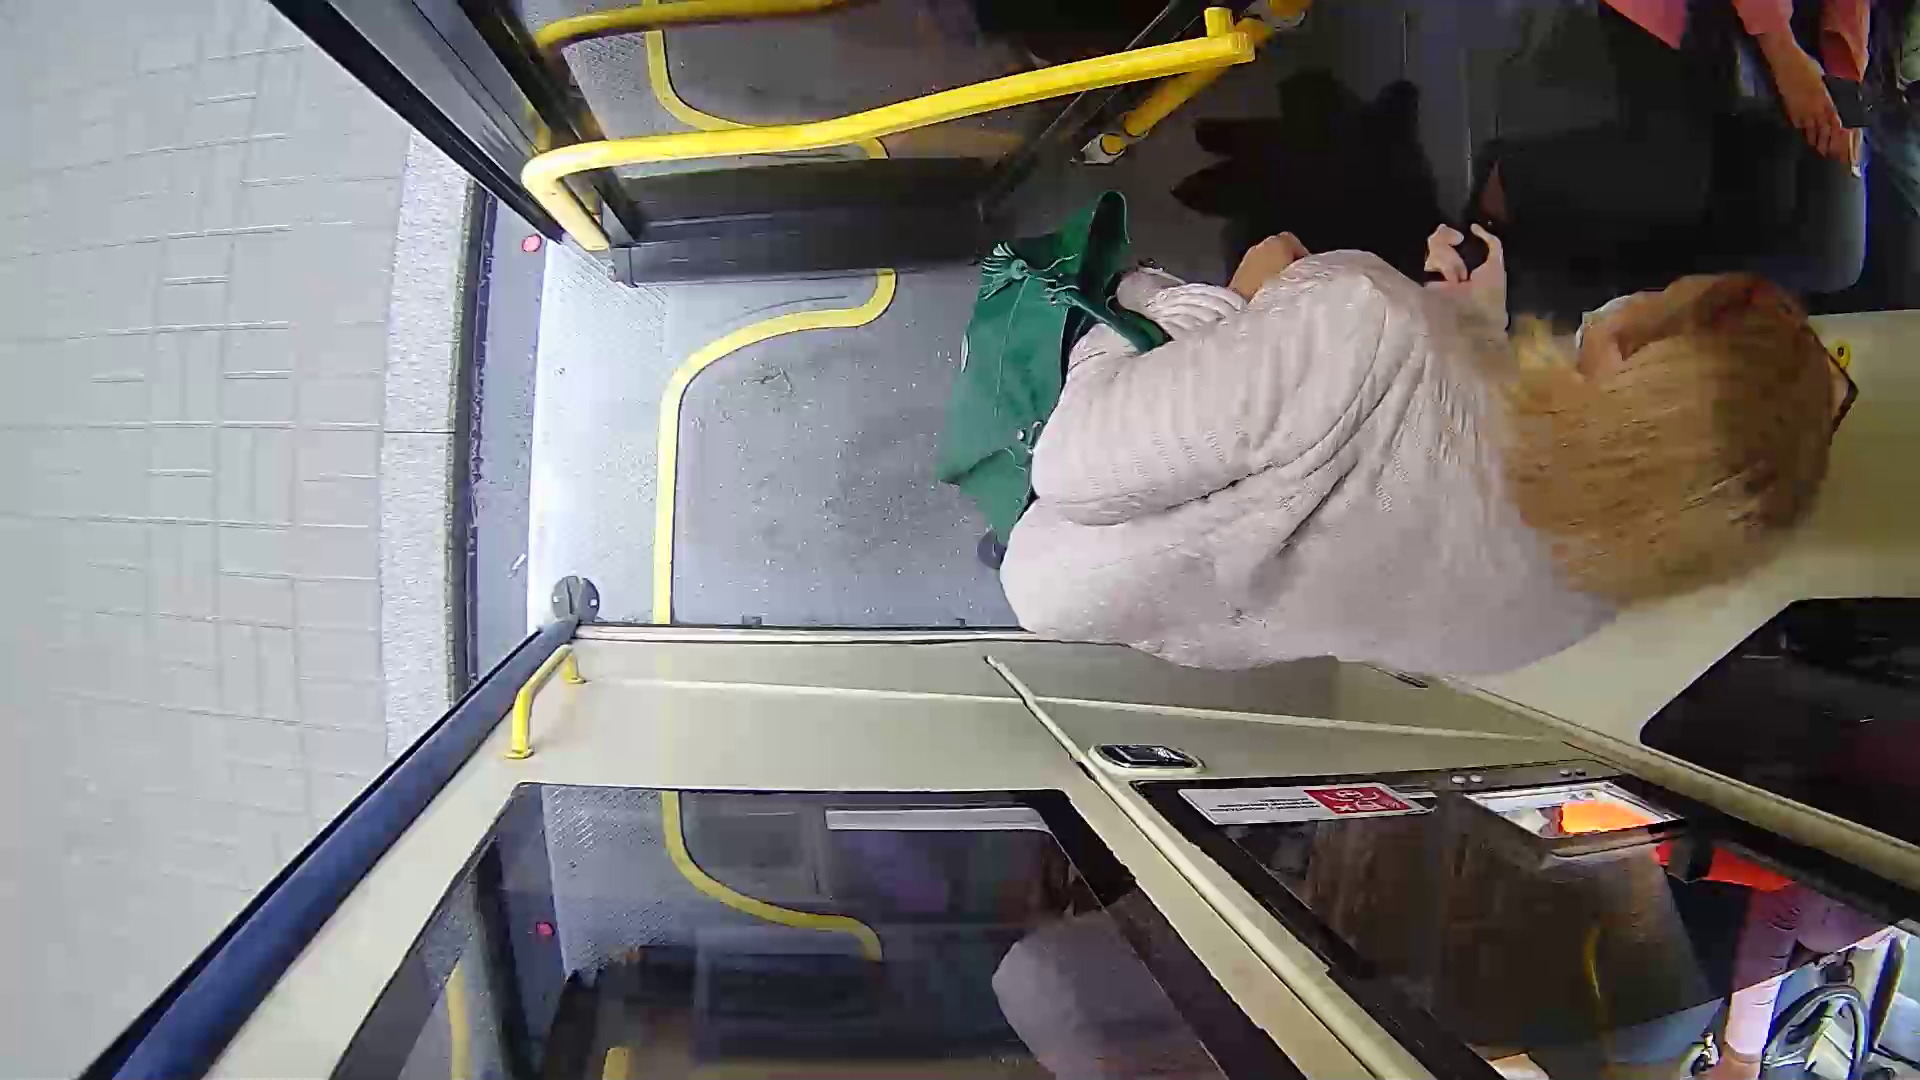person: (915, 181, 1834, 705)
